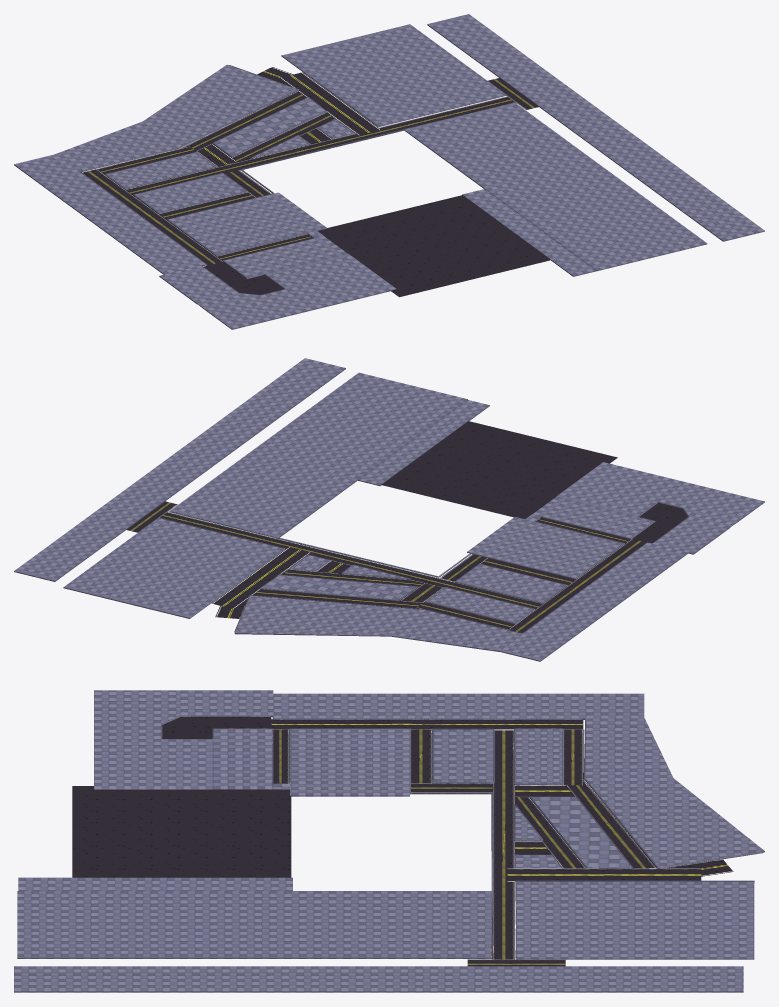
File: Connected Models.fbx
3 views of the same model, one above another, from view 1: azimuth 30°, elevation 25°; view 2: azimuth 150°, elevation 25°; view 3: azimuth 270°, elevation 25° (orthographic). The views are drawn at different scales.
Visible parts, largest first — view 1: Pavements_connected; view 2: Pavements_connected; view 3: Pavements_connected.
Boxes of the visible parts, <box> form: Pavements_connected: <box>14,14,764,329</box>; Pavements_connected: <box>14,358,764,661</box>; Pavements_connected: <box>14,690,764,992</box>.
Bounding box in the file's own units: 21558 × 83.27 × 22730.
